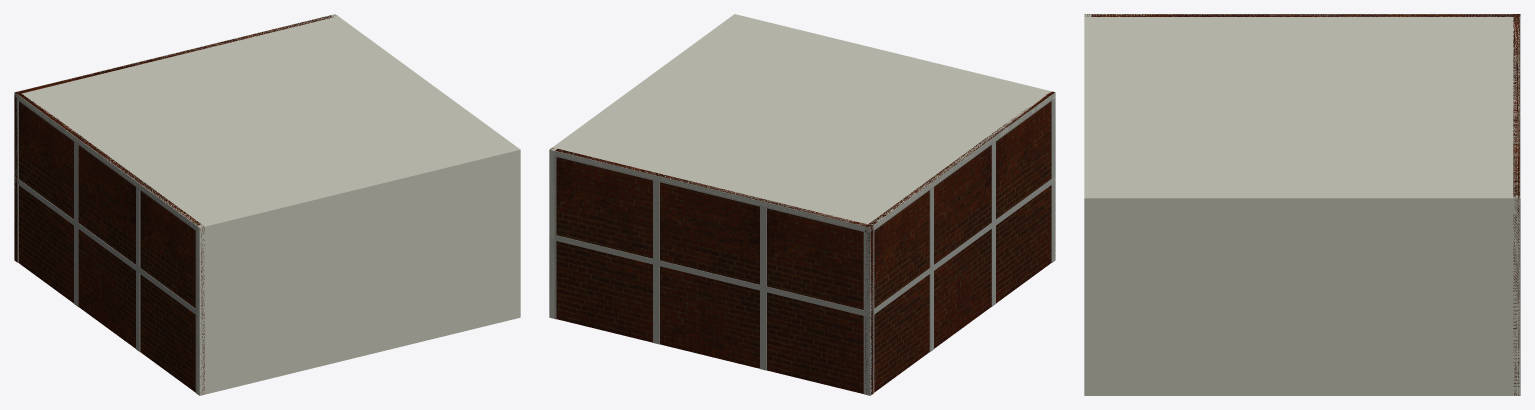
File: building.glb
3 renders of one model, left to right at view 1: azimuth 30°, elevation 25°; view 2: azimuth 150°, elevation 25°; view 3: azimuth 270°, elevation 25°, orthographic. The views are drawn at different scales.
Parts seen in each view (by area): view 1: roof/house:0/roof_slab#0001, house:0/edge0/z0/house:0/edge0/z0/wall_0_0, house:0/edge3/z0/house:0/edge3/z0/wall_0_0, house:0/edge2/z0/house:0/edge2/z0/wall_0_0, house:0/edge3/z0/house:0/edge3/z0/beam_0_0, house:0/edge1/z0/house:0/edge1/z0/wall_0_0, house:0/edge3/z0/house:0/edge3/z0/beam_1_0; view 2: roof/house:0/roof_slab#0001, house:0/edge2/z0/house:0/edge2/z0/wall_0_0, house:0/edge3/z0/house:0/edge3/z0/wall_0_0, house:0/edge2/z0/house:0/edge2/z0/beam_0_0, house:0/edge1/z0/house:0/edge1/z0/wall_0_0, house:0/edge2/z0/house:0/edge2/z0/beam_1_0, house:0/edge3/z0/house:0/edge3/z0/beam_0_0, house:0/edge3/z0/house:0/edge3/z0/beam_1_0, house:0/edge0/z0/house:0/edge0/z0/wall_0_0, house:0/edge2/z0/house:0/edge2/z0/column_1_0, house:0/edge2/z0/house:0/edge2/z0/column_1_1, house:0/edge2/z0/house:0/edge2/z0/column_3_0 (+3 smaller); view 3: house:0/edge1/z0/house:0/edge1/z0/wall_0_0, roof/house:0/roof_slab#0001, house:0/edge0/z0/house:0/edge0/z0/wall_0_0, house:0/edge2/z0/house:0/edge2/z0/wall_0_0, house:0/edge3/z0/house:0/edge3/z0/wall_0_0, house:0/edge3/z0/house:0/edge3/z0/beam_1_0.
Part boxes in pixels (box(x1,y1,x2,y2)): roof/house:0/roof_slab#0001: box(15, 14, 520, 231); house:0/edge0/z0/house:0/edge0/z0/wall_0_0: box(196, 147, 520, 395); house:0/edge3/z0/house:0/edge3/z0/wall_0_0: box(15, 91, 204, 394); house:0/edge2/z0/house:0/edge2/z0/wall_0_0: box(14, 15, 334, 261); house:0/edge3/z0/house:0/edge3/z0/beam_0_0: box(14, 177, 199, 316); house:0/edge1/z0/house:0/edge1/z0/wall_0_0: box(331, 14, 520, 318); house:0/edge3/z0/house:0/edge3/z0/beam_1_0: box(14, 92, 199, 230); roof/house:0/roof_slab#0001: box(550, 14, 1054, 231); house:0/edge2/z0/house:0/edge2/z0/wall_0_0: box(550, 148, 873, 394); house:0/edge3/z0/house:0/edge3/z0/wall_0_0: box(865, 91, 1054, 394); house:0/edge2/z0/house:0/edge2/z0/beam_0_0: box(549, 234, 870, 317); house:0/edge1/z0/house:0/edge1/z0/wall_0_0: box(549, 14, 738, 318); house:0/edge2/z0/house:0/edge2/z0/beam_1_0: box(549, 150, 870, 233); house:0/edge3/z0/house:0/edge3/z0/beam_0_0: box(870, 176, 1055, 316); house:0/edge3/z0/house:0/edge3/z0/beam_1_0: box(870, 92, 1055, 231); house:0/edge0/z0/house:0/edge0/z0/wall_0_0: box(732, 14, 1055, 259); house:0/edge2/z0/house:0/edge2/z0/column_1_0: box(863, 316, 870, 395); house:0/edge2/z0/house:0/edge2/z0/column_1_1: box(863, 232, 870, 311); house:0/edge2/z0/house:0/edge2/z0/column_3_0: box(760, 206, 766, 286); house:0/edge1/z0/house:0/edge1/z0/wall_0_0: box(1084, 195, 1520, 395); roof/house:0/roof_slab#0001: box(1084, 14, 1520, 202); house:0/edge0/z0/house:0/edge0/z0/wall_0_0: box(1084, 14, 1091, 395); house:0/edge2/z0/house:0/edge2/z0/wall_0_0: box(1513, 14, 1519, 395); house:0/edge3/z0/house:0/edge3/z0/wall_0_0: box(1085, 14, 1520, 16); house:0/edge3/z0/house:0/edge3/z0/beam_1_0: box(1092, 14, 1512, 14).
Bounding box in the file's own units: 12 × 6 × 12.
3 materials, 1 textured.
